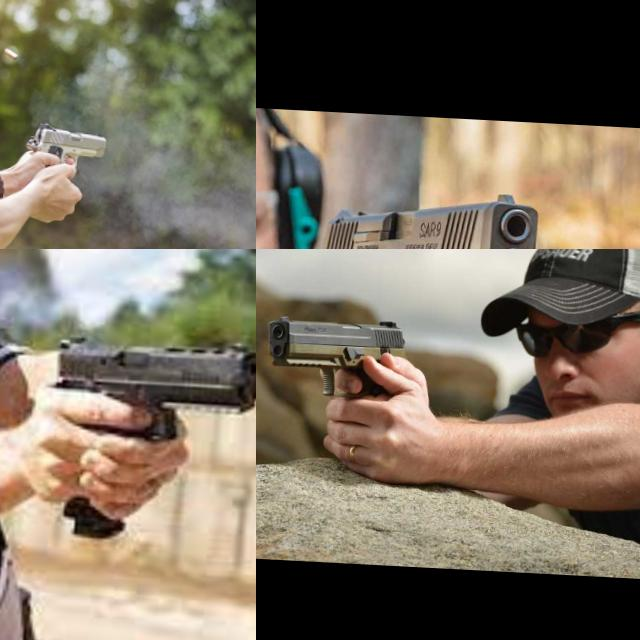handgun: (39, 328, 256, 448), (313, 179, 546, 249), (263, 312, 412, 405), (24, 120, 110, 170)
